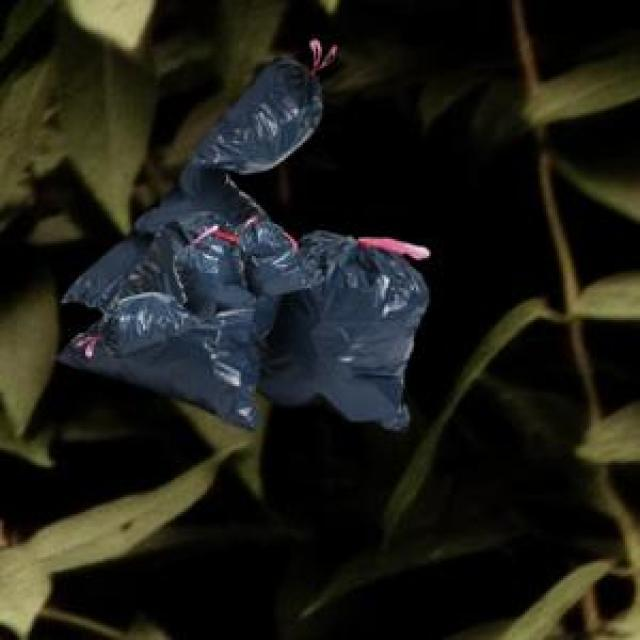Vinyl: (80, 228, 262, 408), (274, 226, 418, 428), (192, 52, 324, 169)
